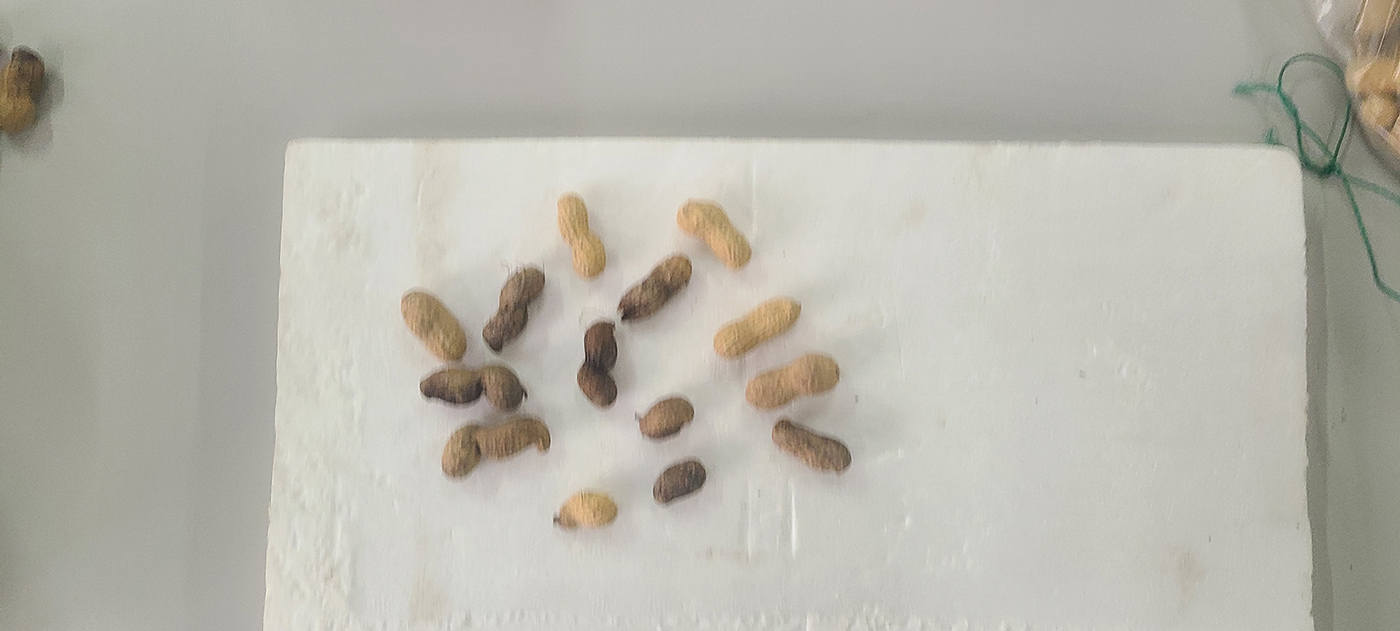h: (713, 297, 803, 358), (747, 353, 840, 411), (678, 200, 752, 269), (401, 290, 468, 364), (556, 192, 607, 279), (1, 45, 46, 135), (554, 492, 620, 530)
l: (441, 418, 551, 478), (482, 267, 545, 354), (618, 254, 692, 322), (418, 366, 524, 413), (771, 420, 851, 473), (577, 320, 618, 408), (638, 396, 694, 439), (651, 460, 707, 502)
